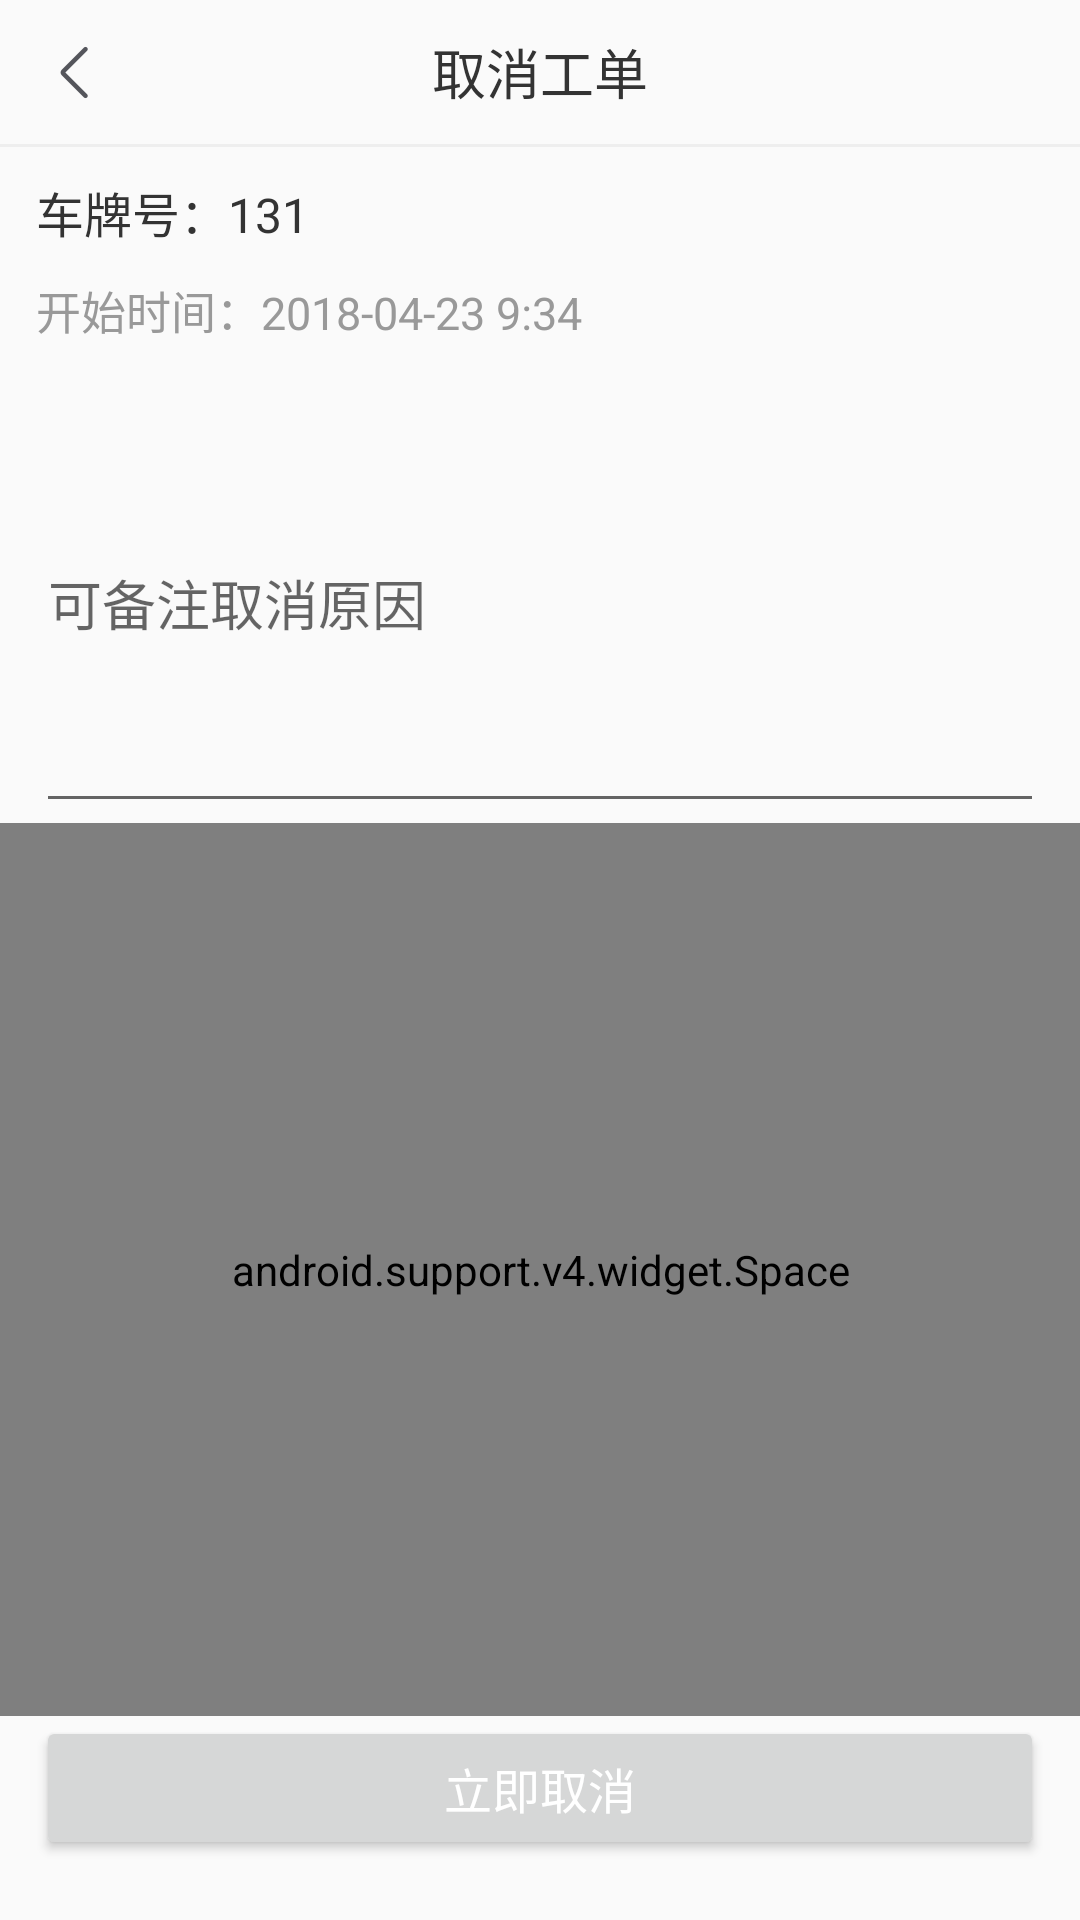

Icons on this 1080px×1920px Android screen, each with the point to tap as (x=x, y=y):
back: (x=74, y=72)
